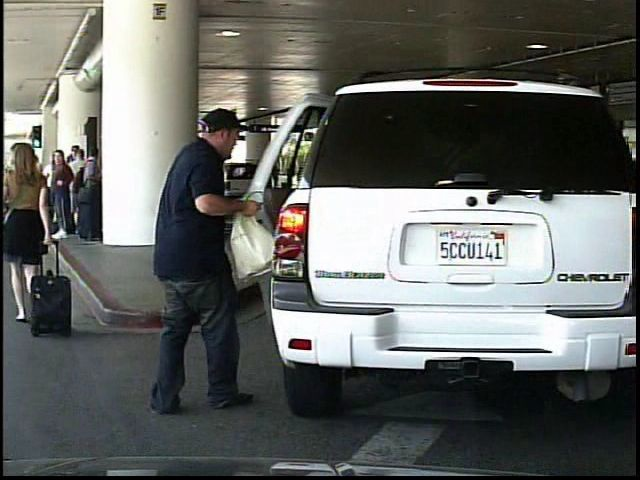person: (151, 105, 276, 411), (6, 137, 58, 332)
